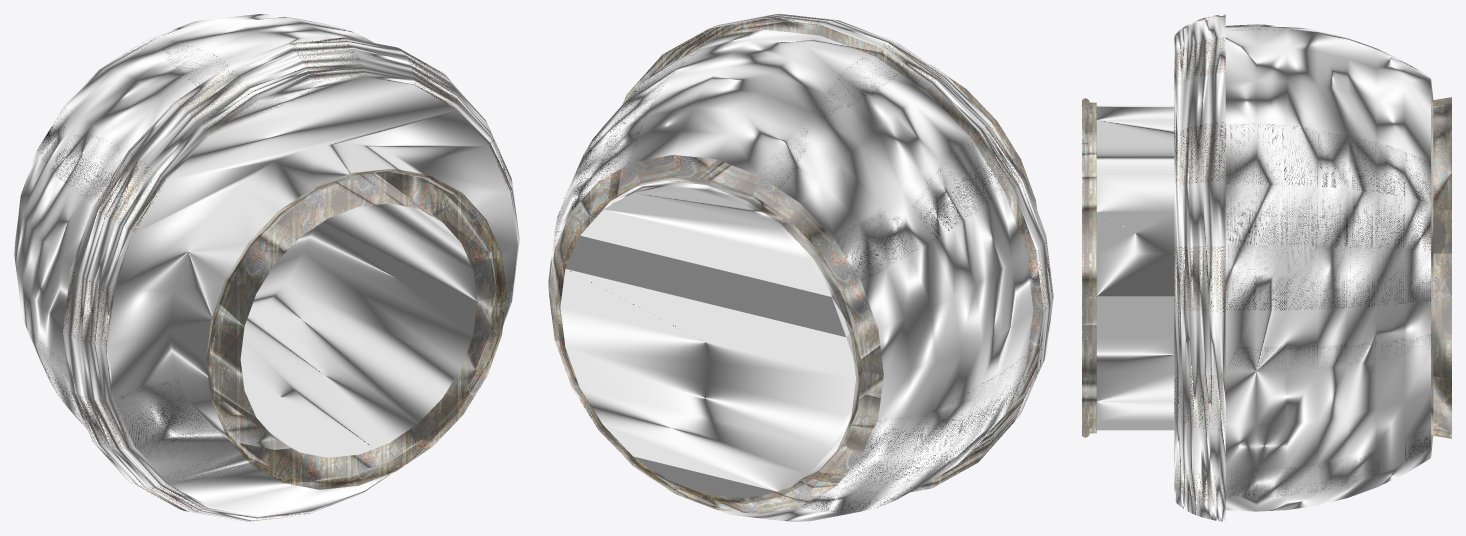
The model's file is model_align.obj.
3 renders of one model, left to right at view 1: azimuth 30°, elevation 25°; view 2: azimuth 150°, elevation 25°; view 3: azimuth 270°, elevation 25°, orthographic.
Size of the model in its own units: 0.1734 by 0.1734 by 0.1258.
